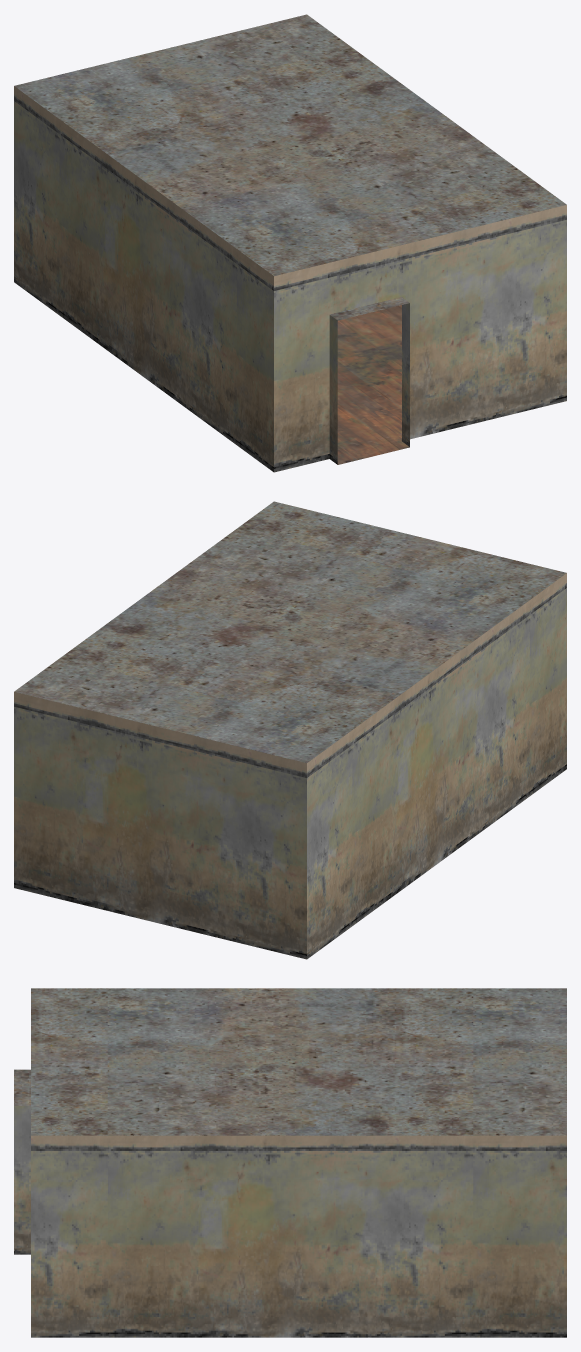
The model's file is _Room_11.FBX.
3 views of the same model, one above another, from view 1: azimuth 30°, elevation 25°; view 2: azimuth 150°, elevation 25°; view 3: azimuth 270°, elevation 25° (orthographic). The views are drawn at different scales.
Parts seen in each view (by area): view 1: _Room_11; view 2: _Room_11; view 3: _Room_11.
Part boxes in pixels (x1,y1,x2,y2): _Room_11: (14, 14, 566, 472); _Room_11: (14, 501, 566, 959); _Room_11: (14, 988, 566, 1337).
Bounding box in the file's own units: 969 × 620 × 1537.
3 materials, 3 textured.
